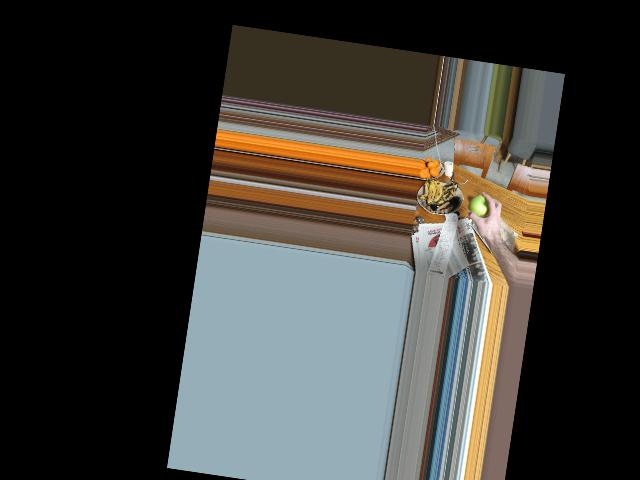apple: (466, 189, 493, 222)
